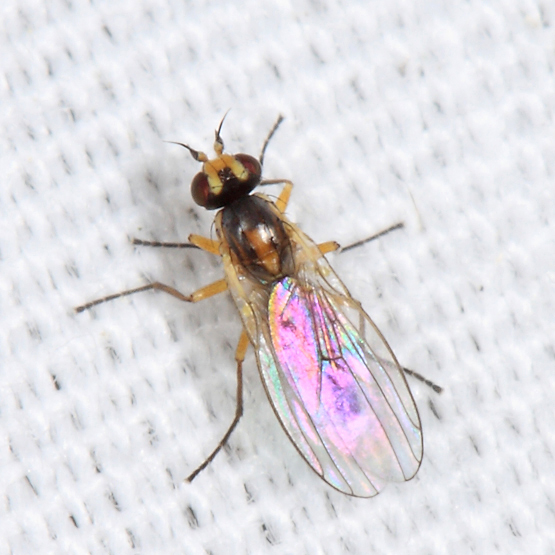Chloropidae: (80, 110, 444, 504)
